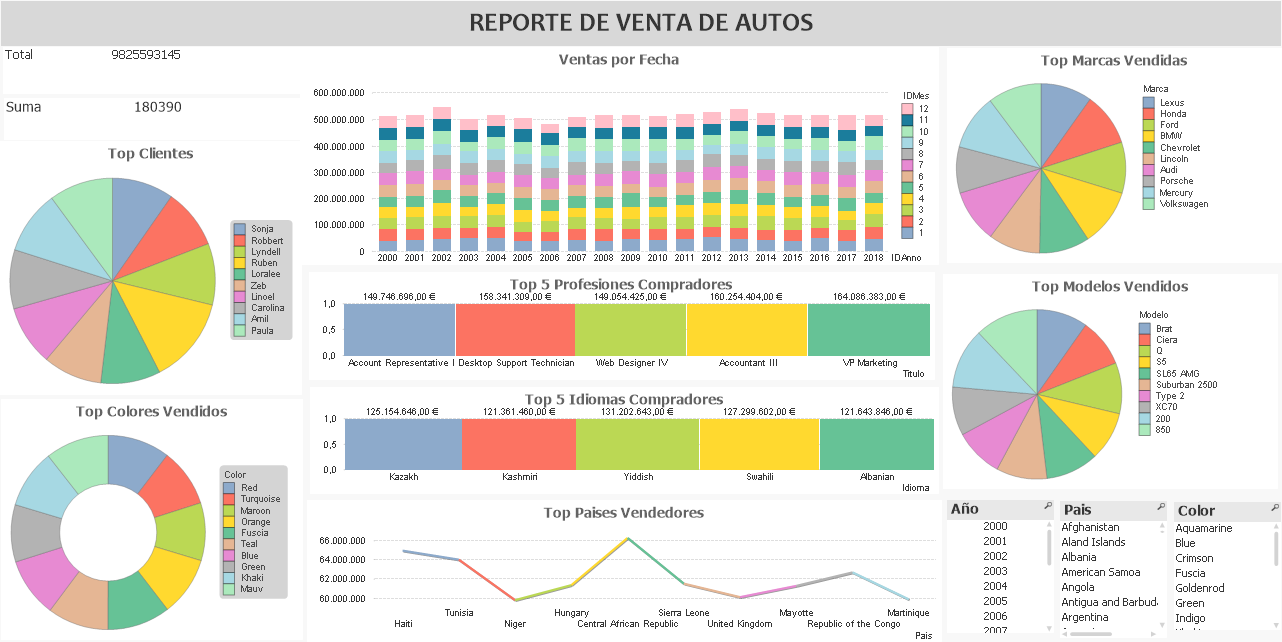

This screenshot's page, from the dashboard's own definition file:
{"tool":"powerbi","page":{"name":"DashBoard","canvas":[1280,720],"ordinal":0},"visuals":[{"type":"columnChart","title":"Ventas por Fecha","fields":{"Category":["Fecha.IDAnno"],"Y":["Sum(Factura.Total)"],"Series":["Mes.Nombre"]},"box":[407.3,51.7,515.2,343.5],"z":0},{"type":"card","fields":{"Values":["Sum(Factura.Total)"]},"box":[0,48.5,183.3,104.4],"z":12},{"type":"card","fields":{"Values":["Sum(Factura.Cantidad)"]},"box":[183.3,49.3,198.9,104.4],"z":13},{"type":"textbox","box":[1.6,0,1276.7,50.1],"z":14},{"type":"slicer","title":"Año","fields":{"Values":["Anno.IDAnno"]},"box":[5.5,602.2,373.2,100.2],"z":1000},{"type":"slicer","fields":{"Values":["Color.Color"]},"box":[665.1,576.3,252.5,143.8],"z":2000},{"type":"pieChart","title":"Top 10 Clientes","fields":{"Category":["Factura.IDCliente"],"Series":["Nombre.Nombre"],"Y":["Sum(Factura.Total)"]},"box":[0,137.3,385.6,234.3],"z":3000},{"type":"donutChart","title":"Top Marcas Vendidas","fields":{"Category":["Marca.Marca"],"Y":["Sum(Factura.Total)"]},"box":[944.6,50.1,335.4,207.2],"z":4000},{"type":"filledMap","title":"Top Paises Fabricantes","fields":{"Size":["CountNonNull(Carro.IDCarro)"],"Category":["Pais.Pais"]},"box":[945.4,464.5,334.6,255.7],"z":5000},{"type":"slicer","fields":{"Values":["Pais.Pais"]},"box":[411,577.1,240.9,143],"z":7000},{"type":"barChart","title":"Top Idiomas Compradores","fields":{"Series":["Idioma.Idioma"],"Y":["Sum(Factura.Total)"]},"box":[407.3,399.6,552.7,179.4],"z":8000},{"type":"pieChart","title":"Top Modelos Vendidos","fields":{"Category":["Modelo.Modelo"],"Y":["Sum(Factura.Total)"]},"box":[944.6,249.9,335.4,221.1],"z":9000},{"type":"donutChart","title":"Colores Vendidos","fields":{"Series":["Color.Color"],"Y":["Sum(Factura.Total)"]},"box":[0,365,382.3,249.9],"z":10000}]}

Visuals, with their boxes on the page's 1280x720 design canvas (x1, y1, x2, y2). These are canvas units, not pixel positions in the 1282x642 screenshot, which may show the page scaled, cropped or inside an application window:
"Ventas por Fecha" columnChart: left=407, top=52, right=922, bottom=395
card - Sum(Factura.Total): left=0, top=48, right=183, bottom=153
card - Sum(Factura.Cantidad): left=183, top=49, right=382, bottom=154
textbox: left=2, top=0, right=1278, bottom=50
"Año" slicer: left=6, top=602, right=379, bottom=702
slicer - Color.Color: left=665, top=576, right=918, bottom=720
"Top 10 Clientes" pieChart: left=0, top=137, right=386, bottom=372
"Top Marcas Vendidas" donutChart: left=945, top=50, right=1280, bottom=257
"Top Paises Fabricantes" filledMap: left=945, top=464, right=1280, bottom=720
slicer - Pais.Pais: left=411, top=577, right=652, bottom=720
"Top Idiomas Compradores" barChart: left=407, top=400, right=960, bottom=579
"Top Modelos Vendidos" pieChart: left=945, top=250, right=1280, bottom=471
"Colores Vendidos" donutChart: left=0, top=365, right=382, bottom=615
